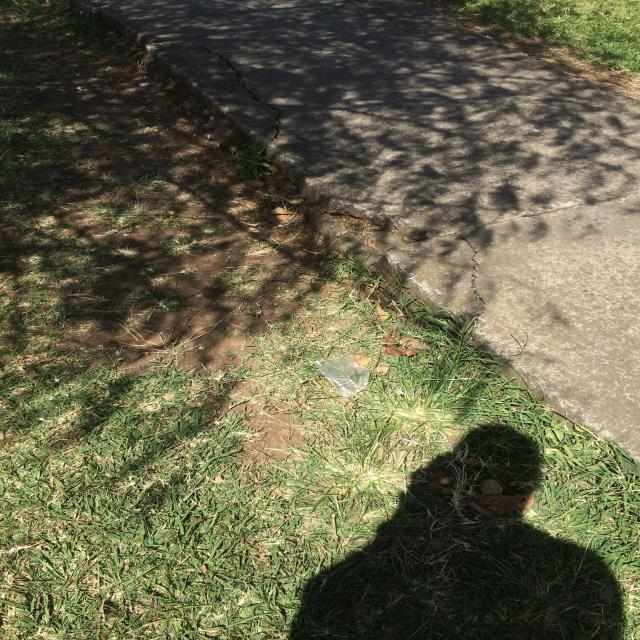Plastic film: (314, 352, 372, 396)
